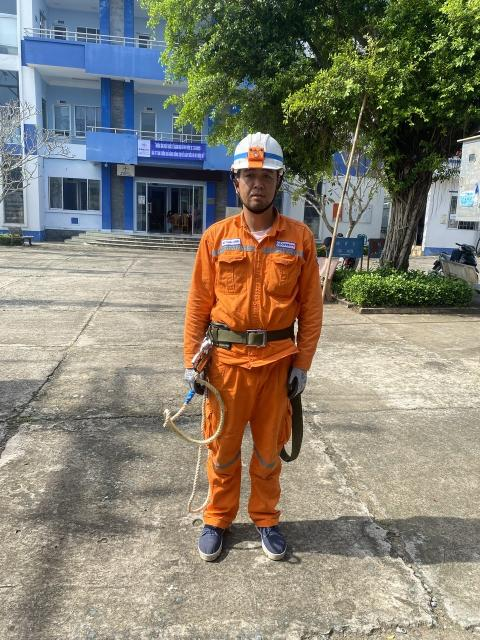gloves: (178, 364, 219, 412), (270, 362, 316, 399)
harness: (191, 310, 314, 350)
helmet: (222, 127, 303, 182)
shoes: (182, 507, 241, 572), (248, 504, 299, 568)
